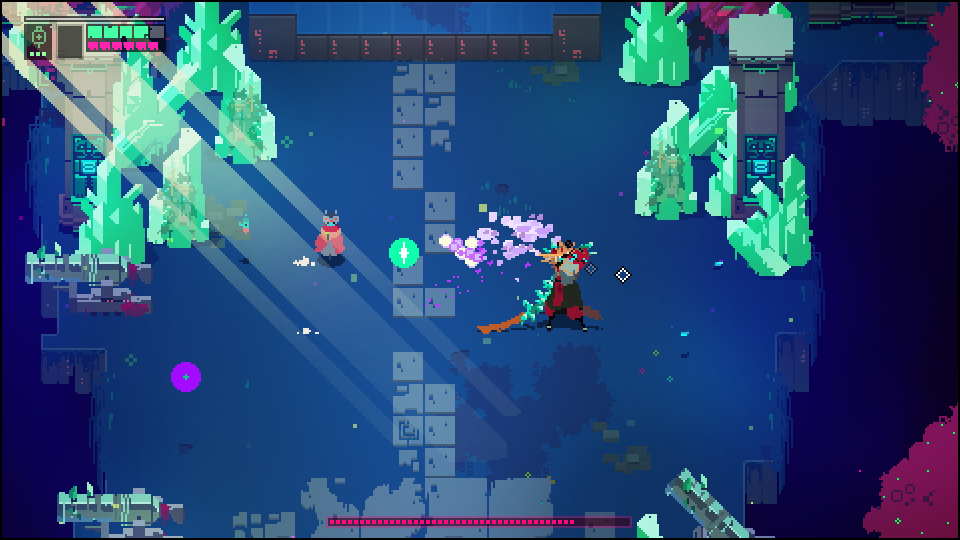hanged_man: (517, 233, 604, 339)
hanged_shot: (168, 360, 202, 395), (388, 238, 421, 270)
player: (312, 204, 344, 266)
